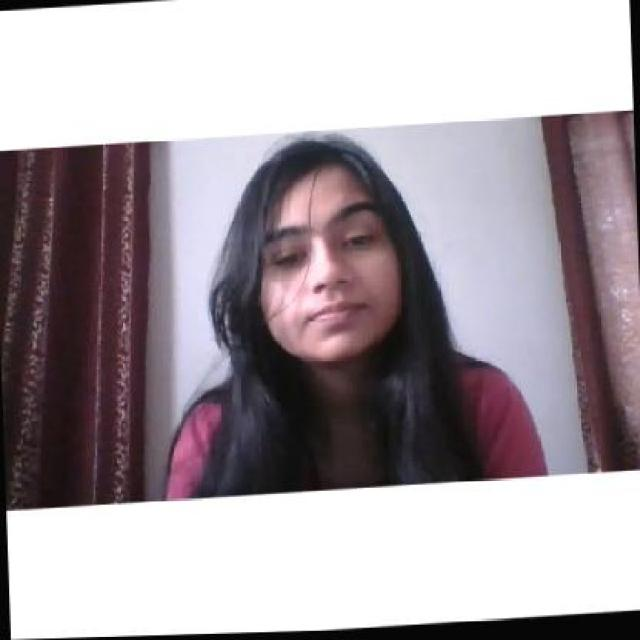attentif: (254, 139, 403, 366)
